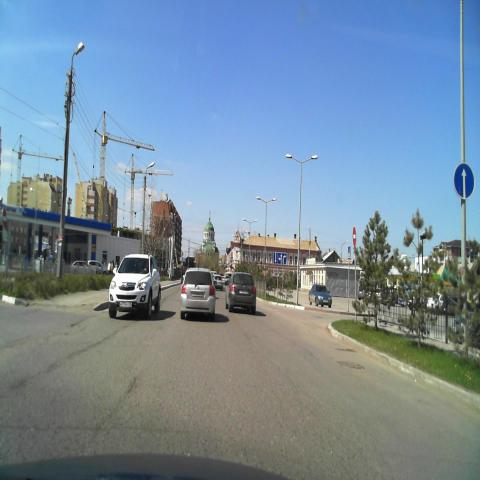5_15_7: (273, 251, 287, 265)
